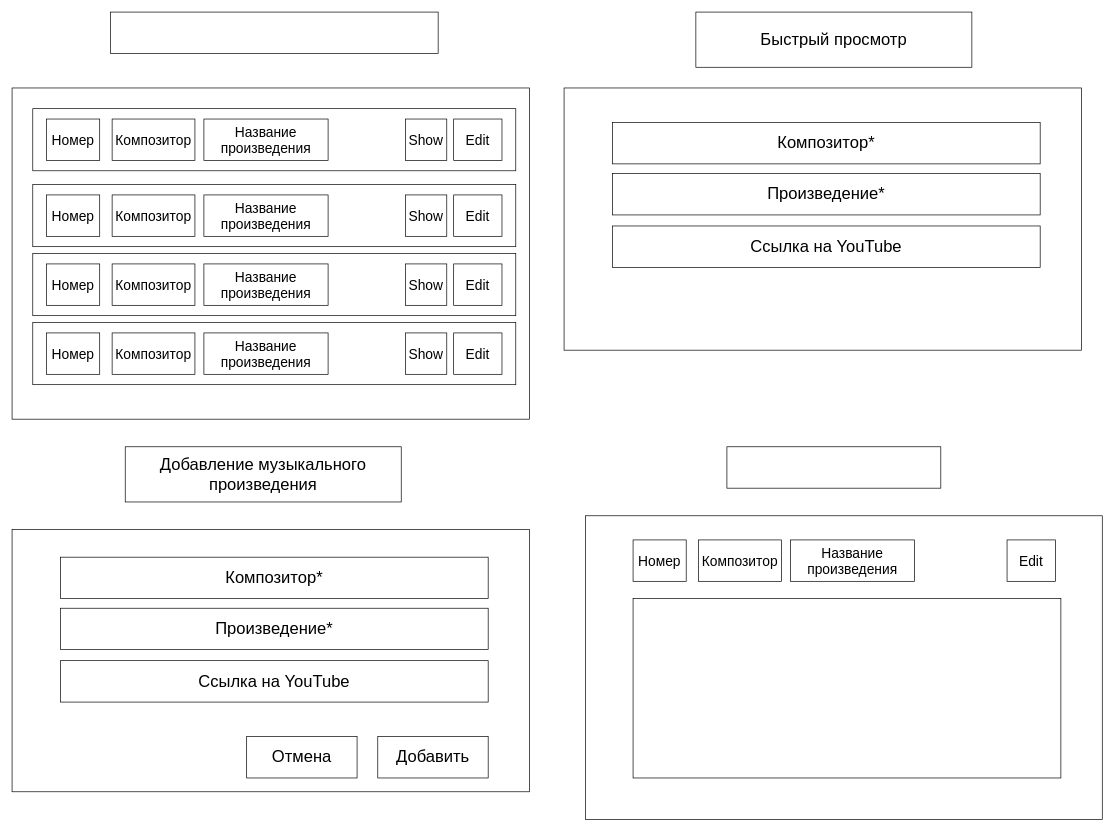
Some shapes in this 1114 by 831 pixel diagram are drawn without their labels. The box of each missing label's shape, as (x1, y1, x2, y2) in pixels:
YouTube: (632, 598, 1061, 778)
Музыкальное произведение: (726, 446, 941, 488)
Список музыкальных произведений: (110, 11, 438, 53)
